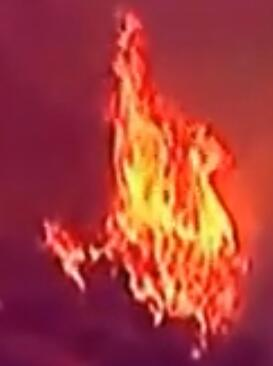fire: (34, 3, 250, 360)
